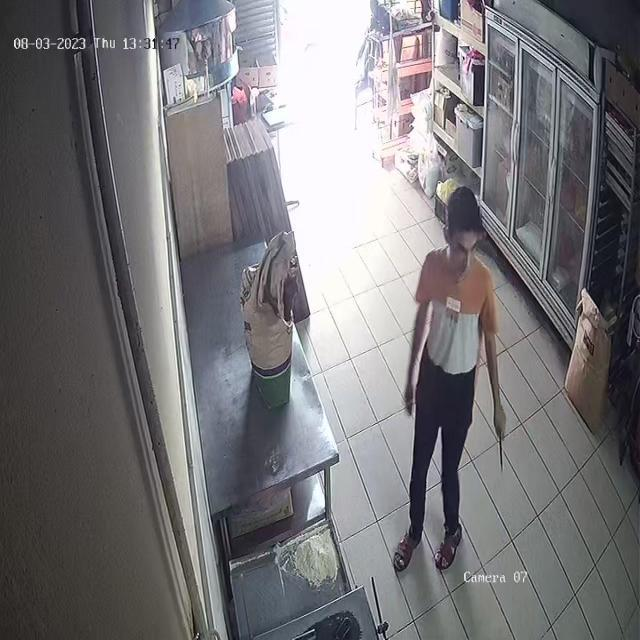Knife: (492, 407, 512, 481)
